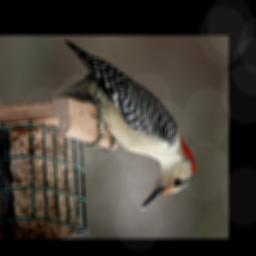Woodpecker: (54, 40, 197, 211)
